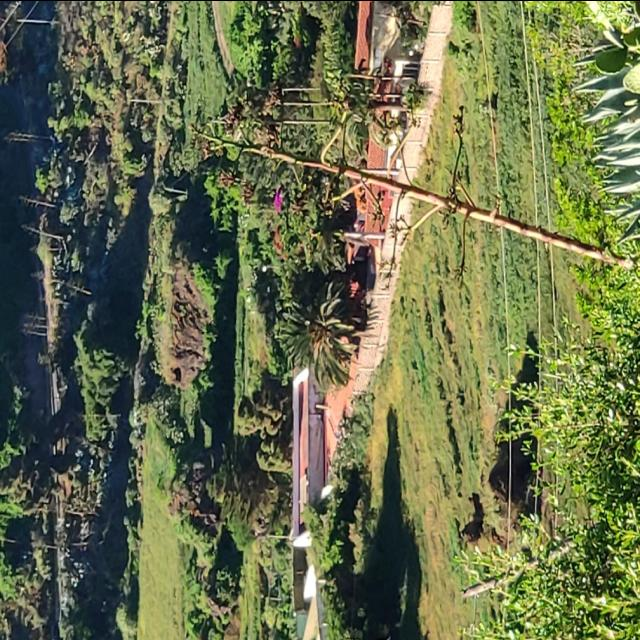Palm-Trees: (283, 280, 365, 386)
